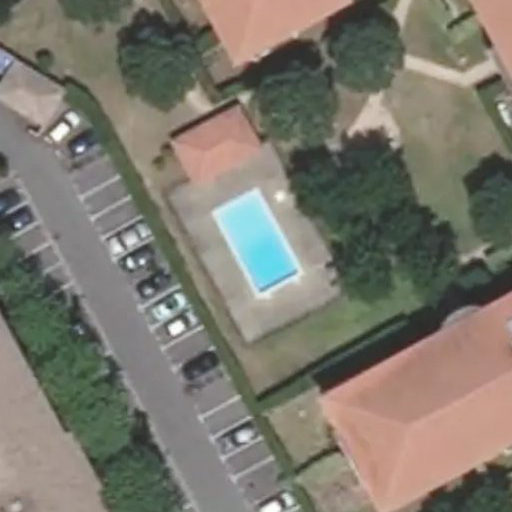pool: (213, 211, 298, 272)
